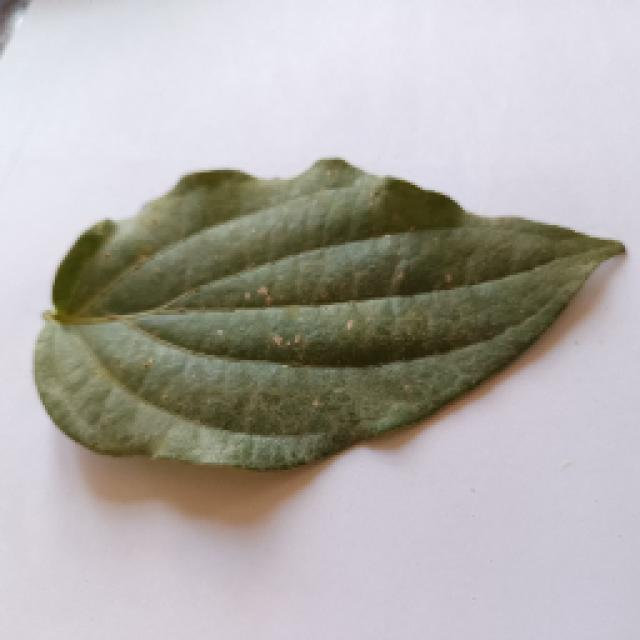pollu-disease: (32, 175, 620, 463)
